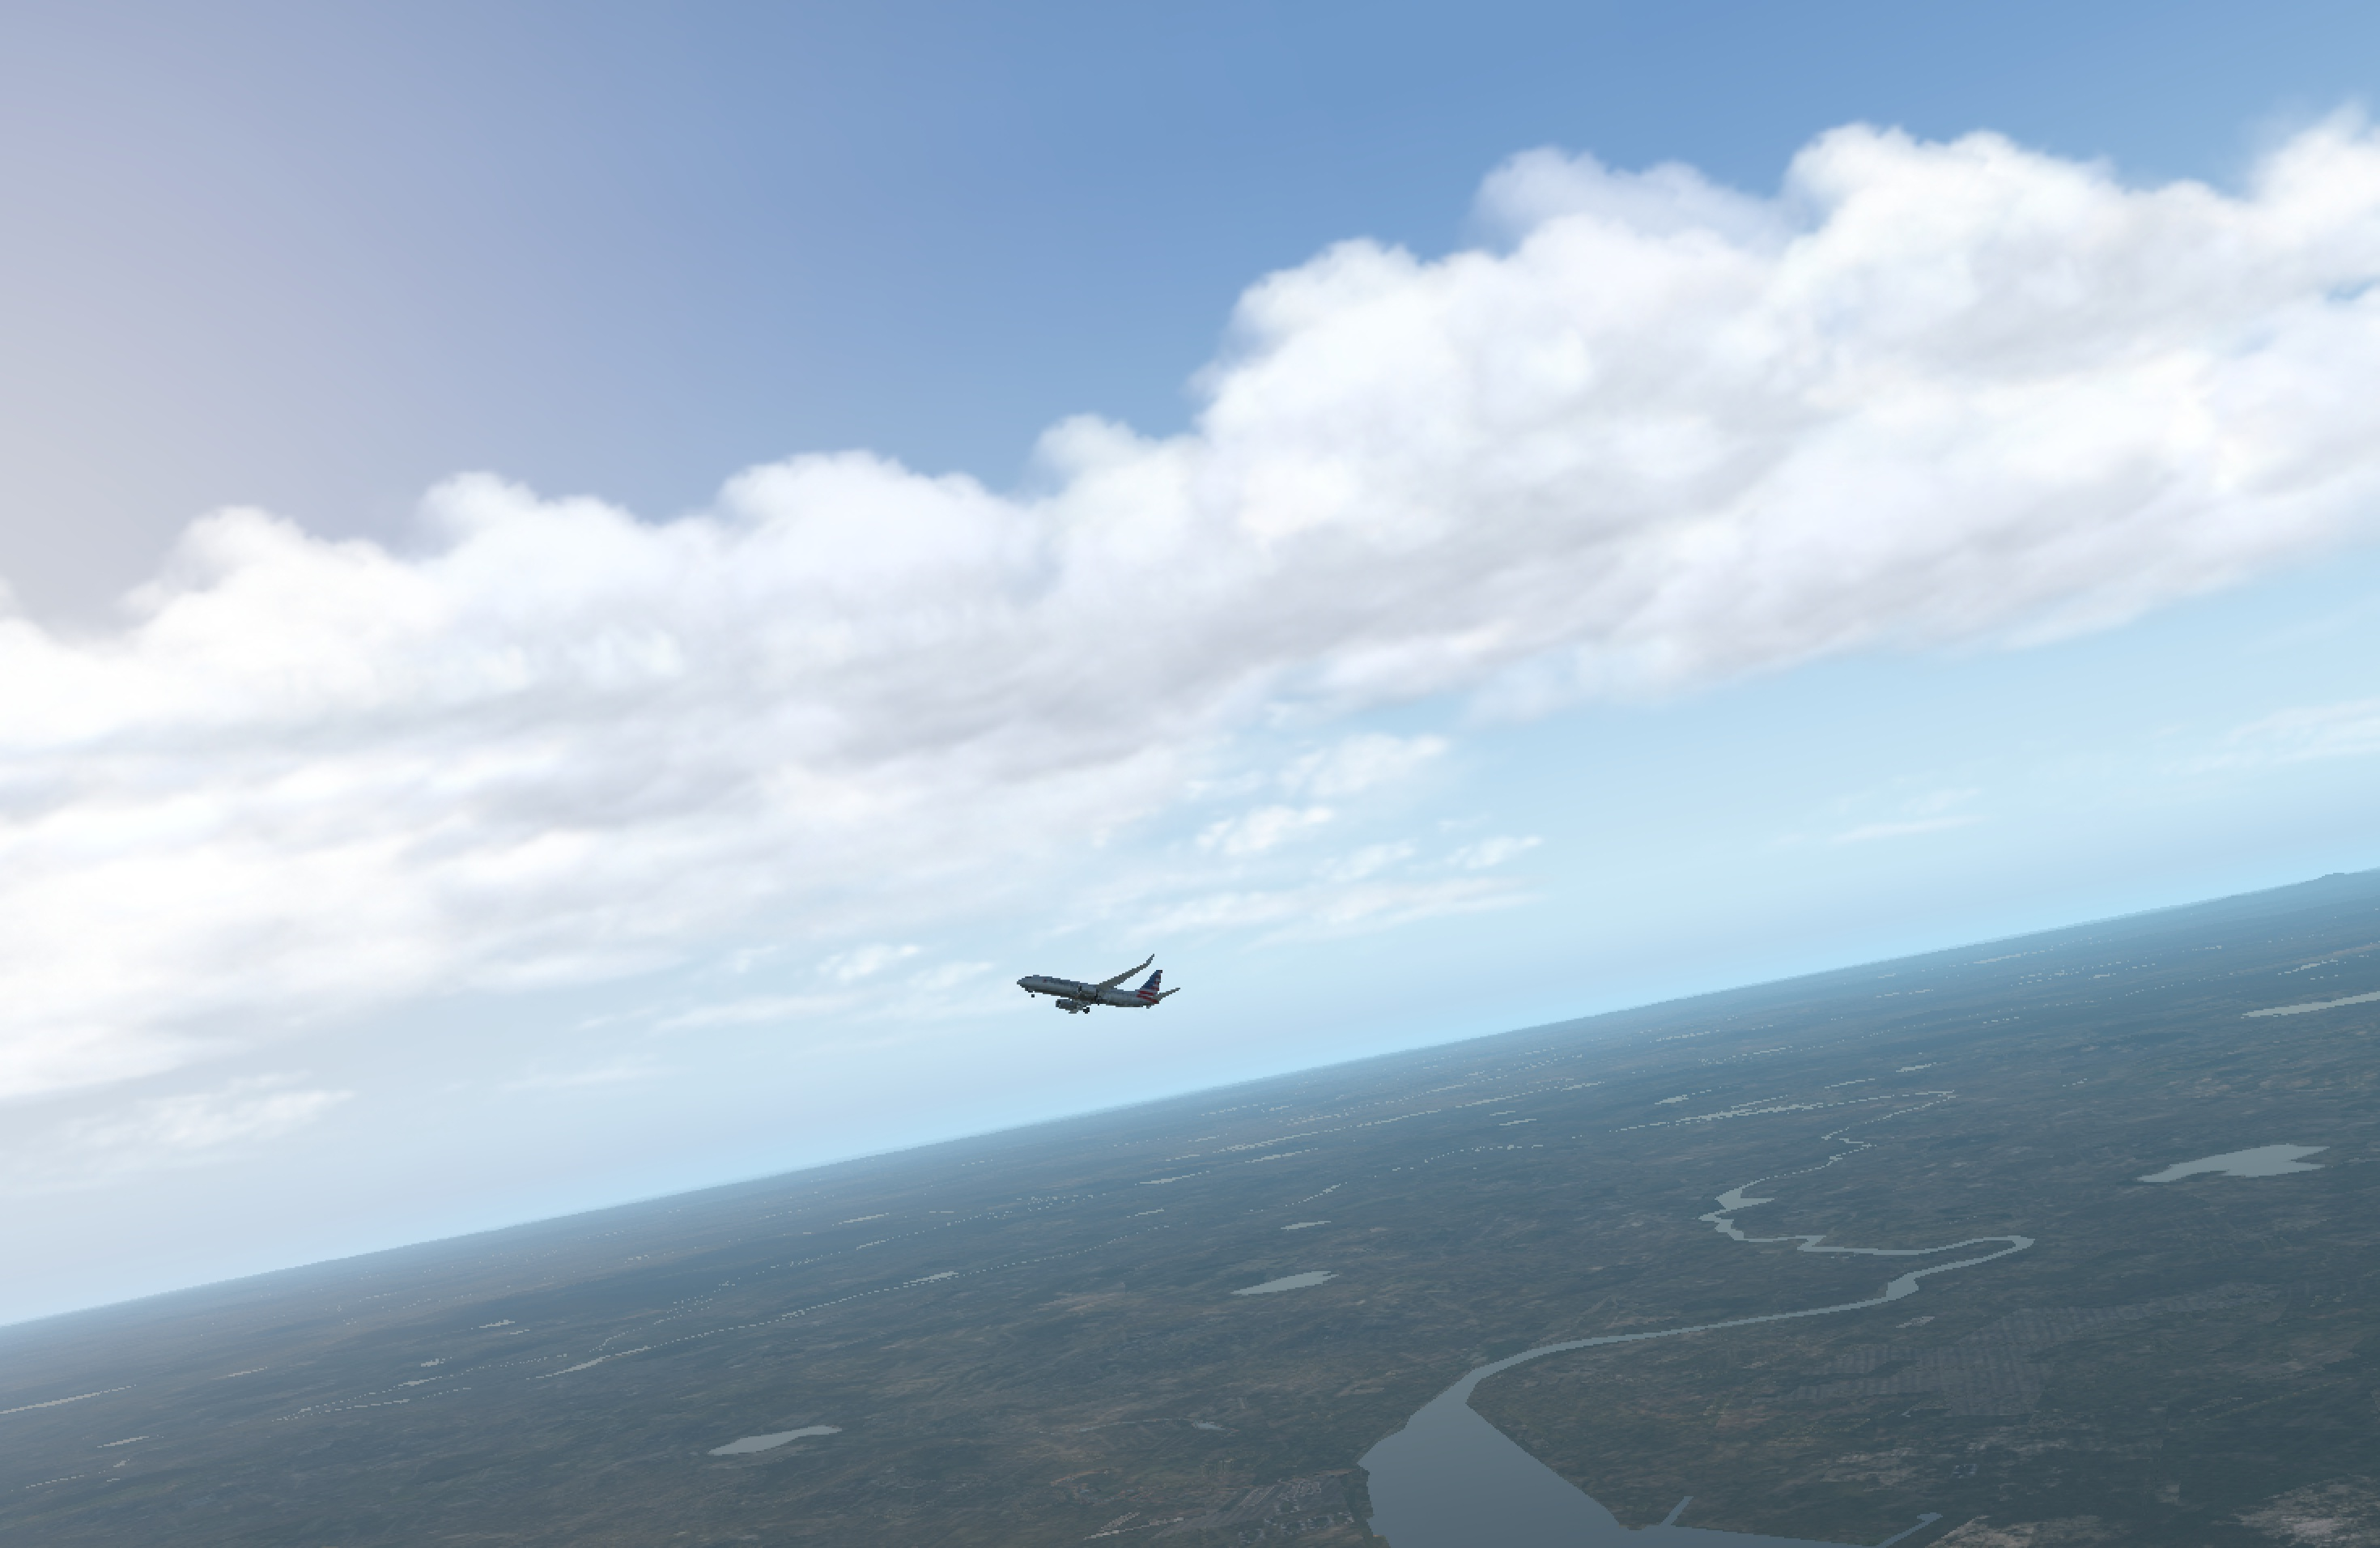aircraft: (1003, 963, 1173, 1027)
